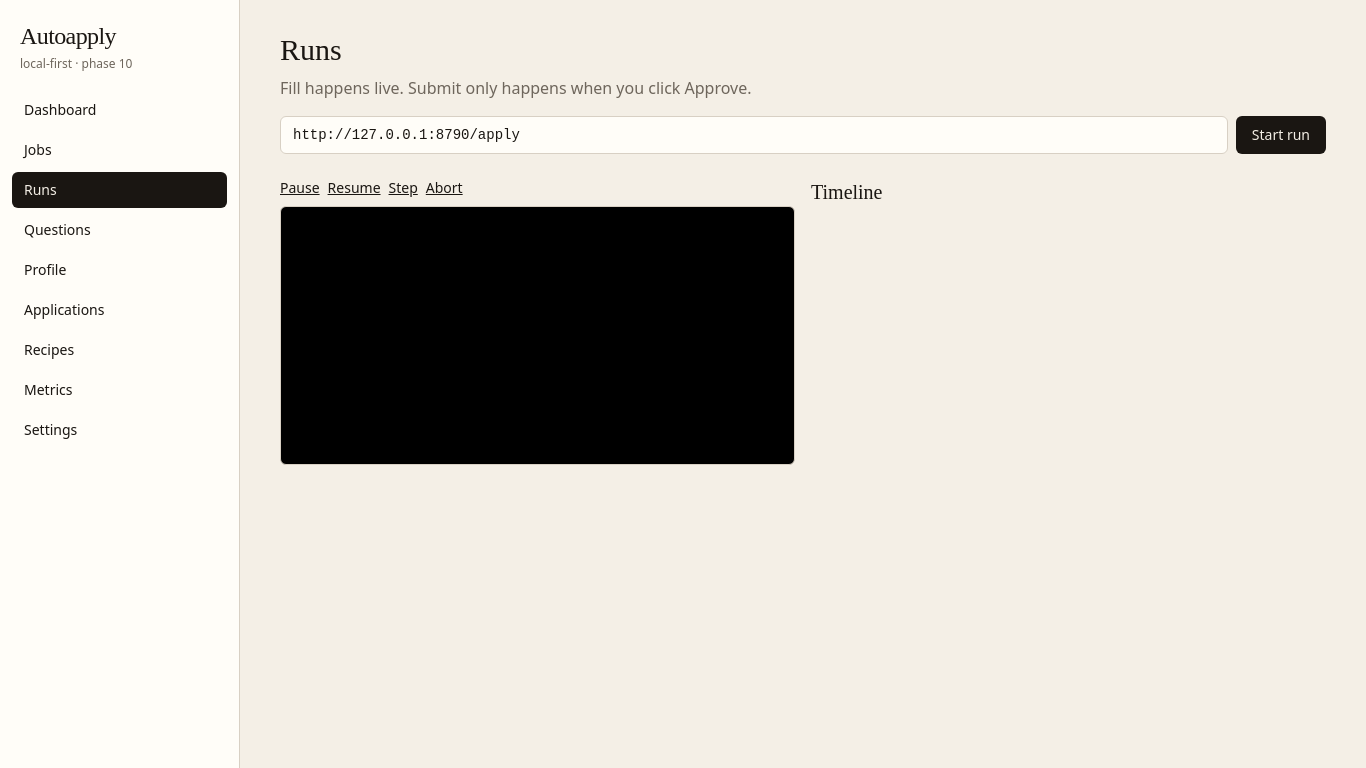
Test case: Runs page › renders live-view controls and preflight Approve/Cancel
Expected: the heading "Runs" is shown, [280,33,342,66]
Expected: the button "Pause" is shown, [280,178,320,198]
Click the button "Start run" at (1281, 135), box [1236,116,1326,154]
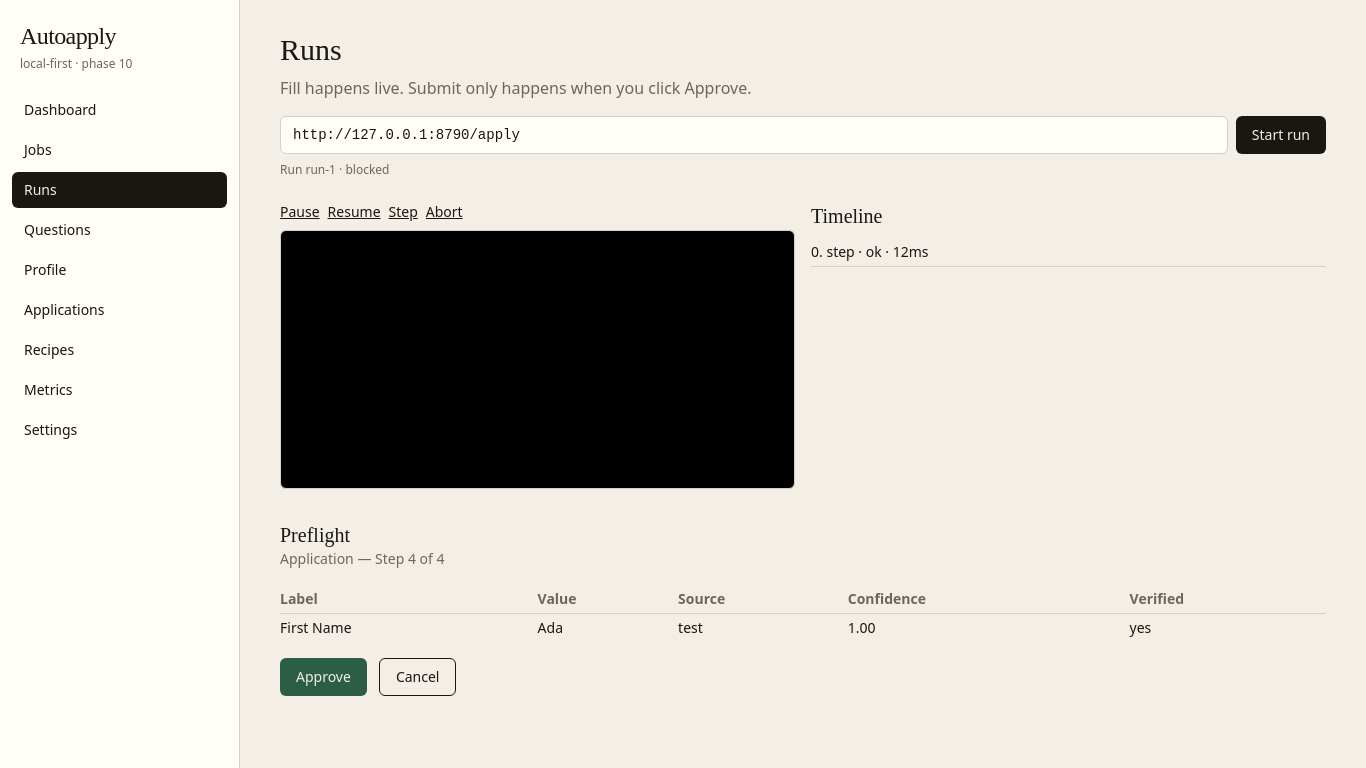
Expected: the heading "Preflight" is shown, [280,524,350,546]
Expected: the text "First Name" is shown, [280,613,538,642]
Expected: the text "Ada" is shown, [538,613,678,642]
Click the button "0. step · ok · 12ms" at (905, 252), box [811,242,1326,262]
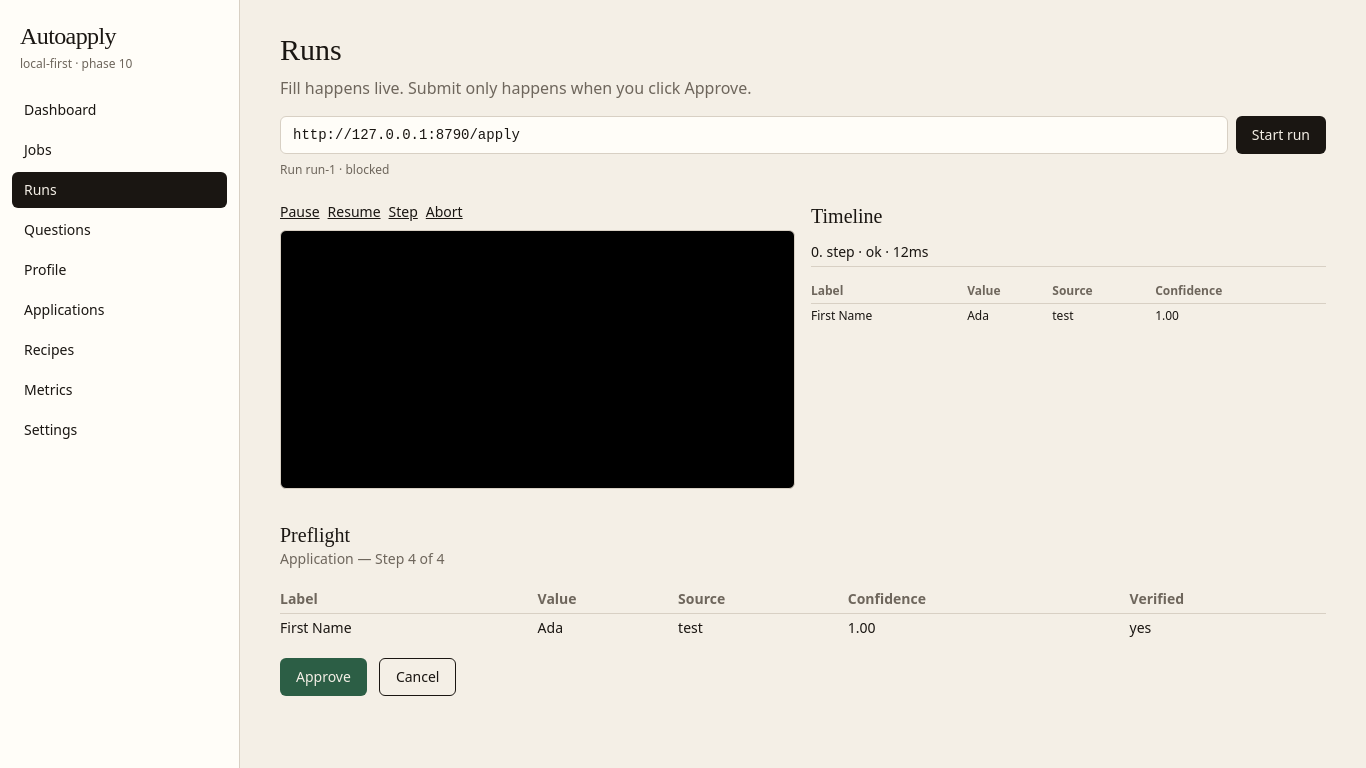
Expected: the text "First Name" below "Timeline" is shown, [811,307,872,324]
